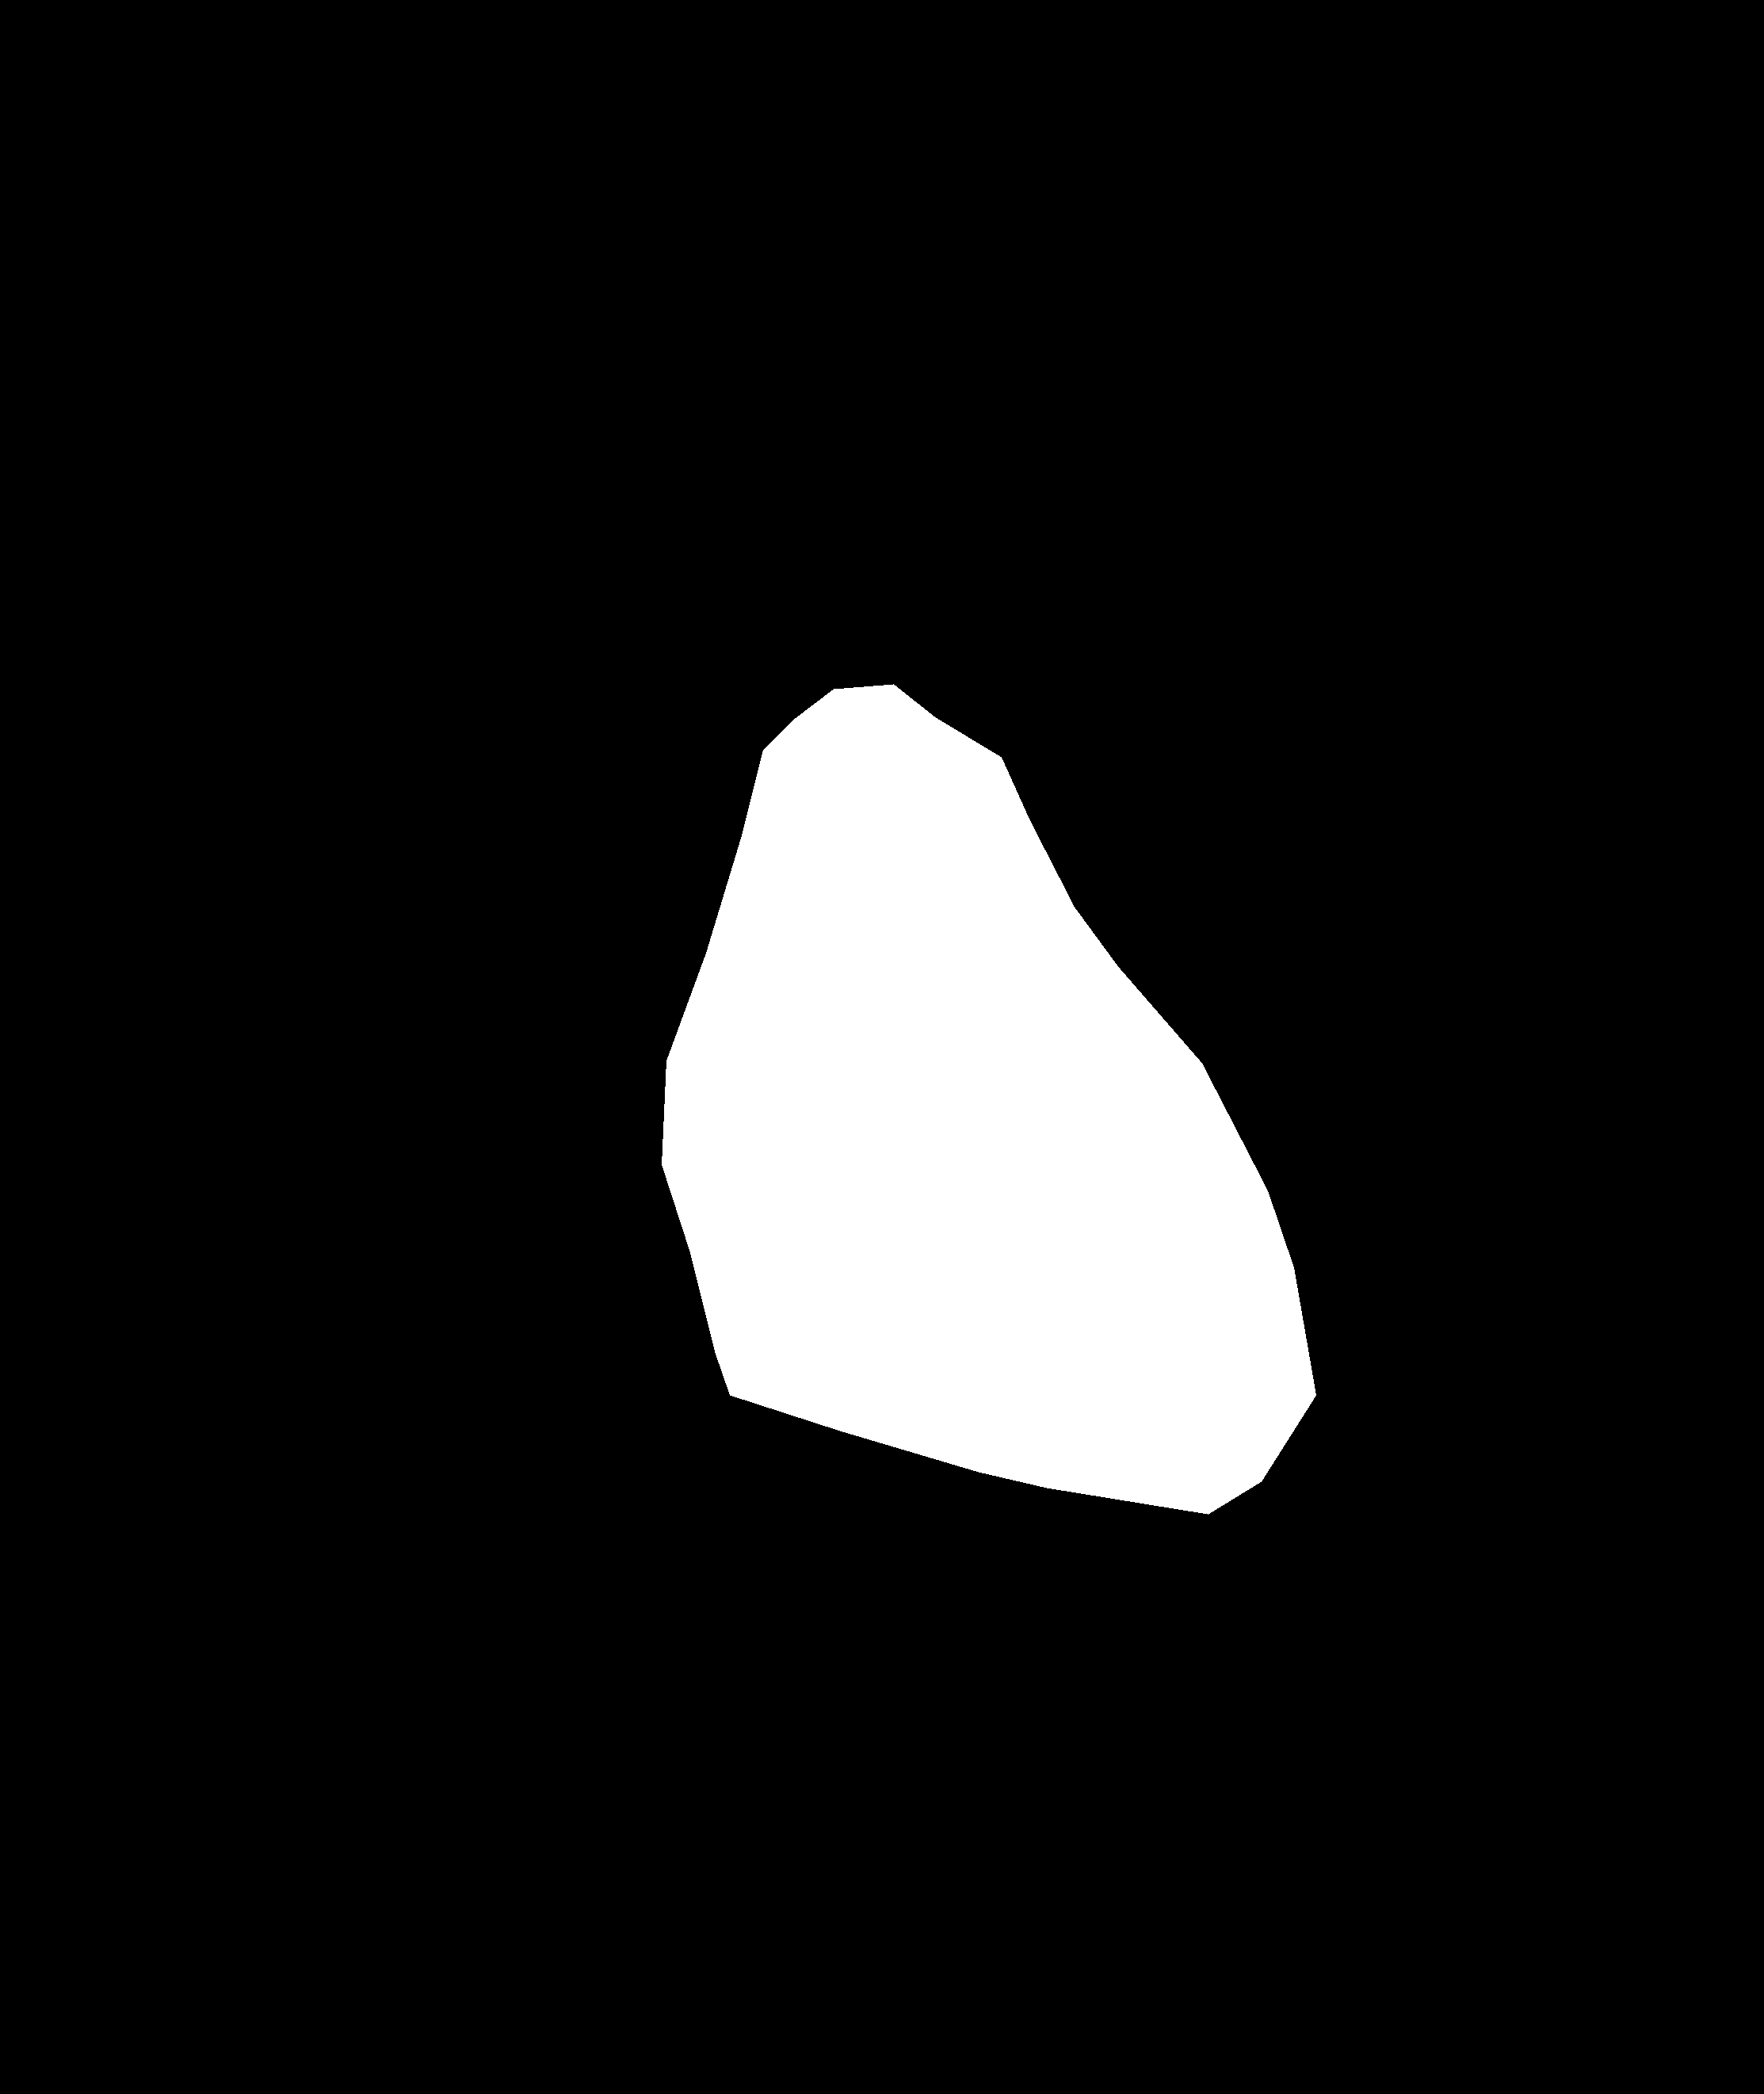heart: (661, 685, 1316, 1514)
left_lung: (115, 124, 726, 1541)
right_lung: (866, 100, 1572, 1586)
